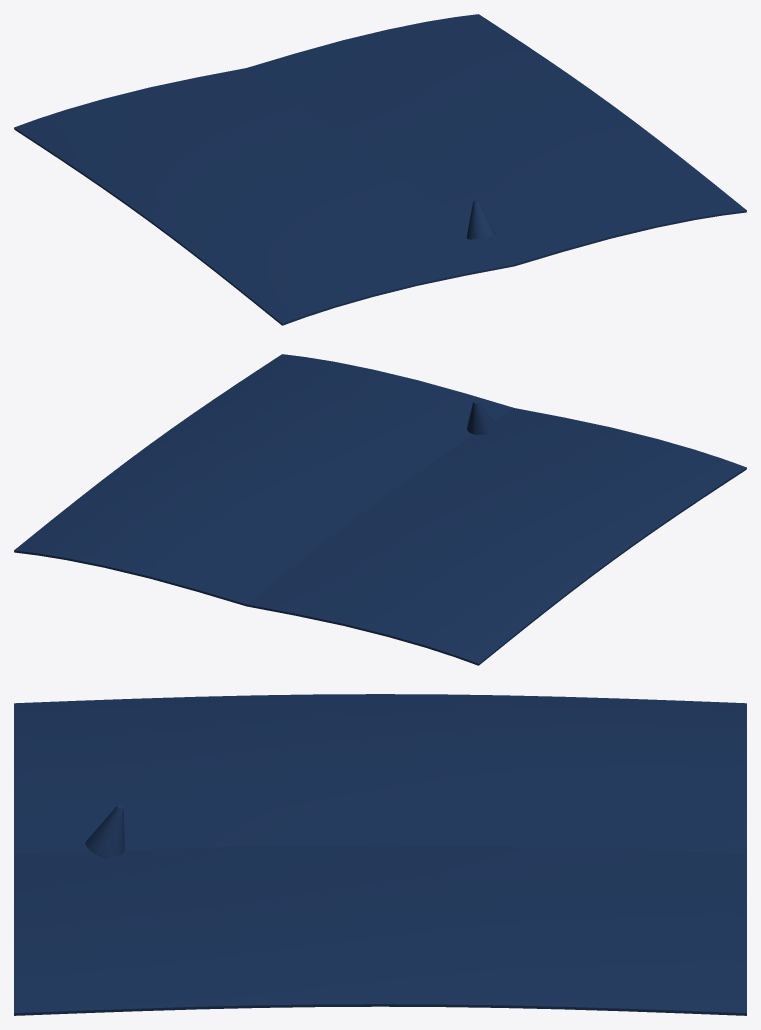
Rendered from GEO_Roof_Panel.glb.
3 views of the same model, one above another, from view 1: azimuth 30°, elevation 25°; view 2: azimuth 150°, elevation 25°; view 3: azimuth 270°, elevation 25° (orthographic). The views are drawn at different scales.
Visible parts, largest first — view 1: GEO_Roof_Panel; view 2: GEO_Roof_Panel; view 3: GEO_Roof_Panel.
Part boxes in pixels (left/top/right/bottom): GEO_Roof_Panel: left=14, top=14, right=746, bottom=325; GEO_Roof_Panel: left=14, top=354, right=746, bottom=665; GEO_Roof_Panel: left=14, top=694, right=746, bottom=1015.
Bounding box in the file's own units: 1.04 × 0.0865 × 1.04.
